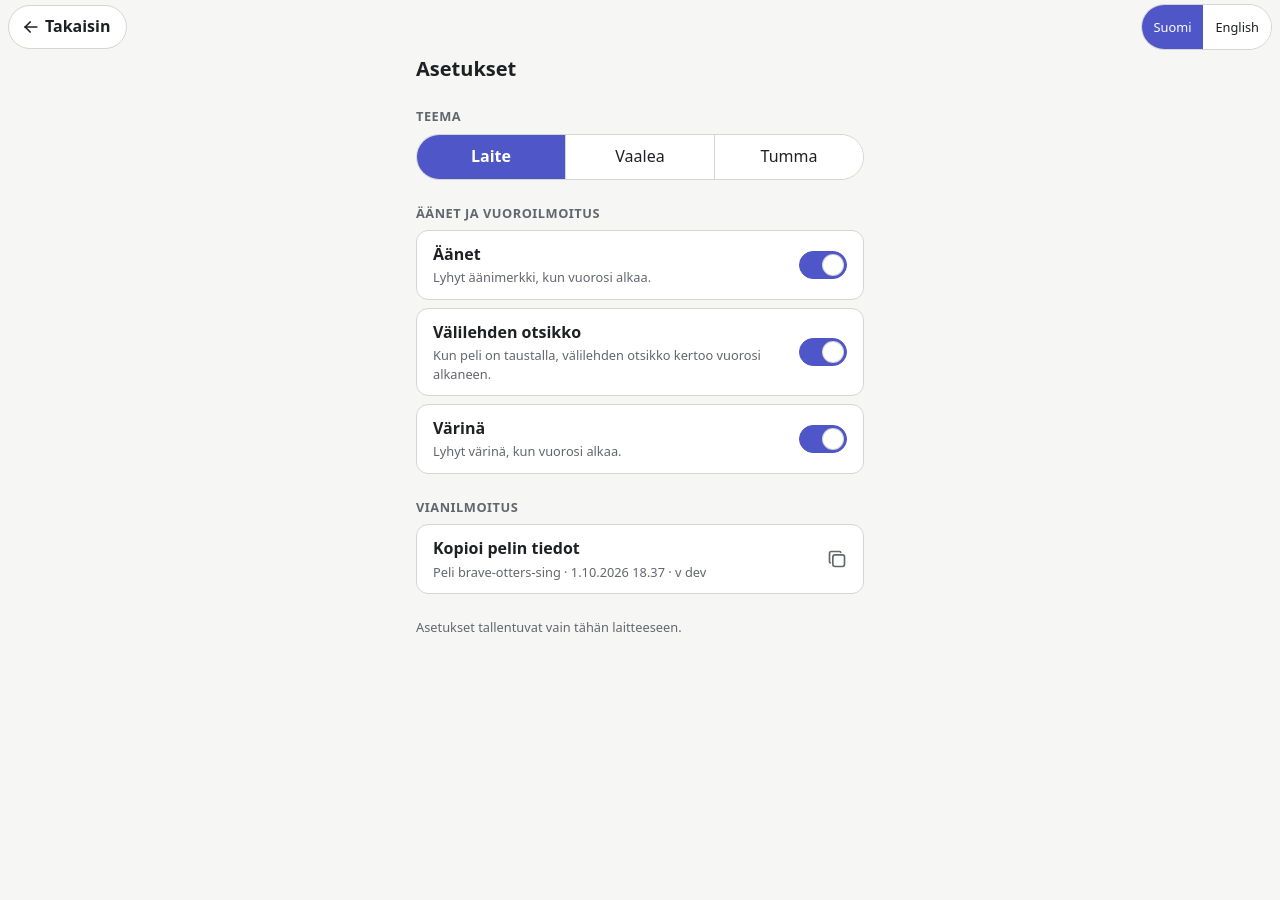
Scenario: settings › Game details for a bug report › Copy during a game: copies id, local date and time and version, then confirms
Click the button "Kopioi pelin tiedot". click: (506, 548)
box: [416,524,864,594]
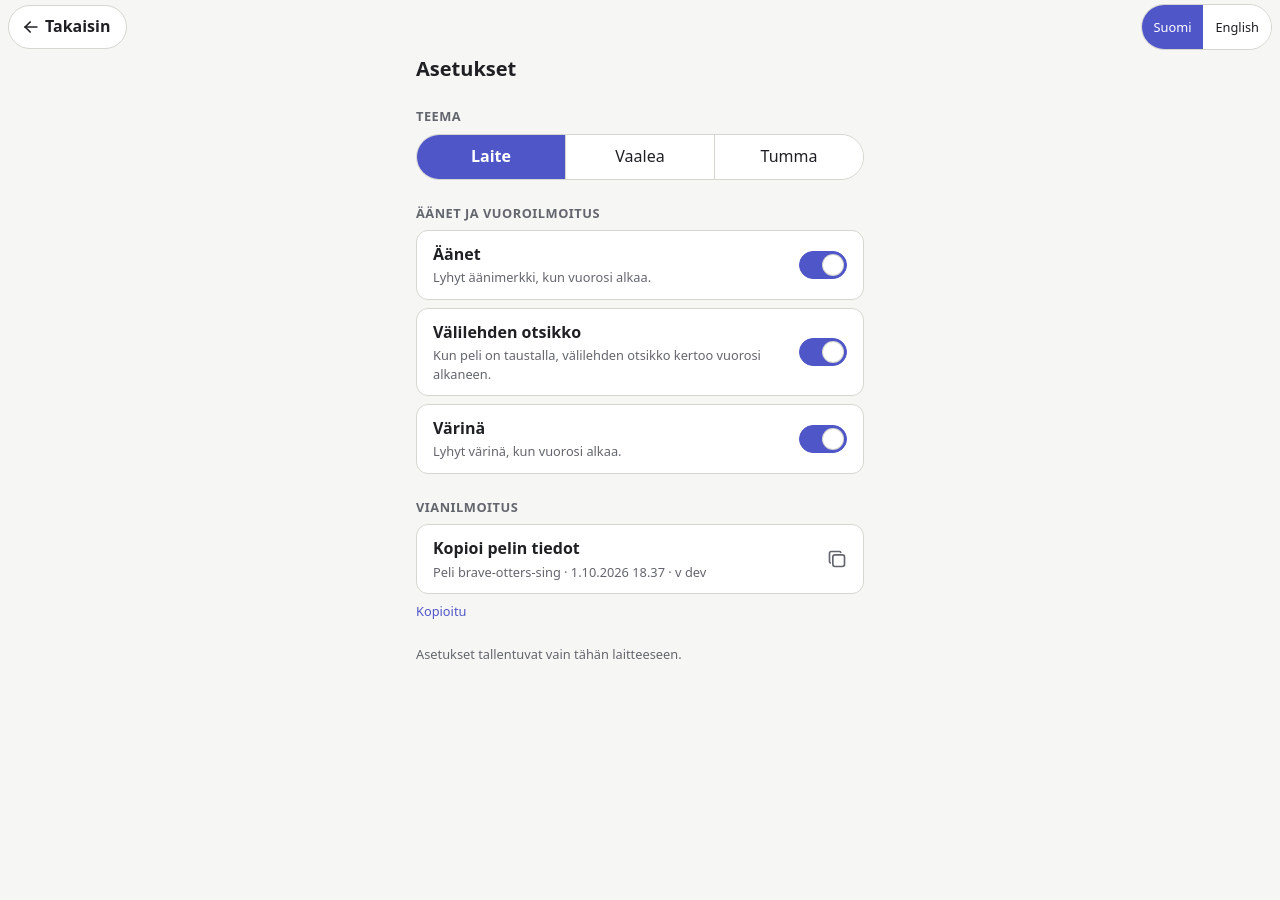
Now the message reads "Kopioitu", box [416,602,466,620]
